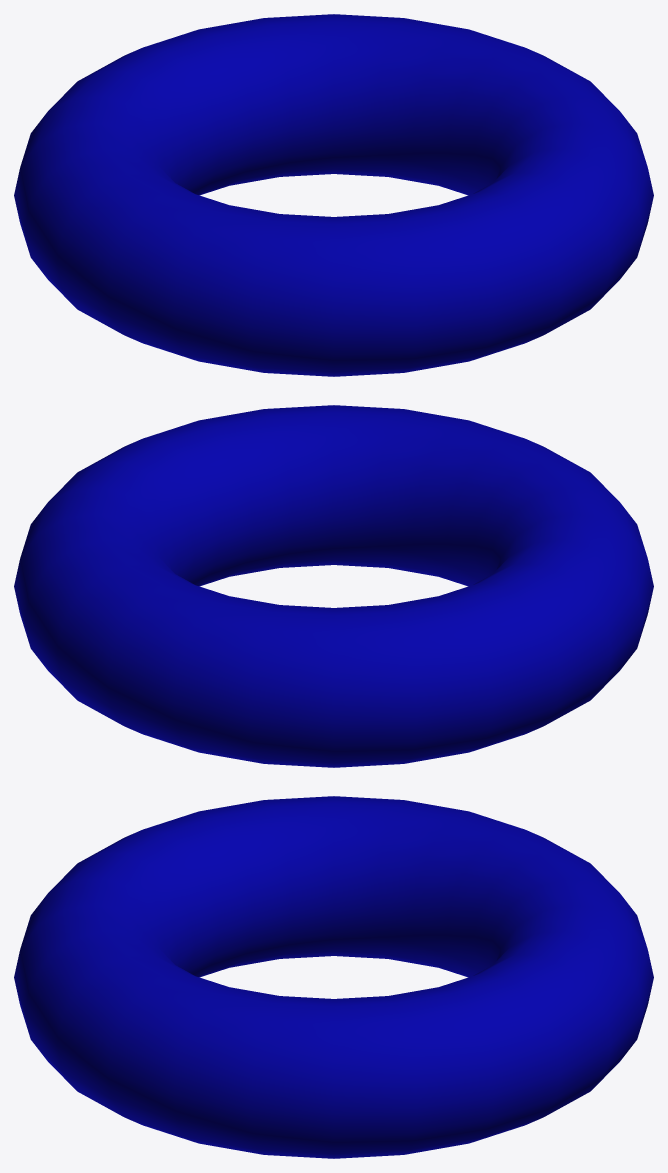
The model's file is Ring (5).obj.
3 views of the same model, one above another, from view 1: azimuth 30°, elevation 25°; view 2: azimuth 150°, elevation 25°; view 3: azimuth 270°, elevation 25° (orthographic).
Parts seen in each view (by area): view 1: Ring (5); view 2: Ring (5); view 3: Ring (5).
Boxes of the visible parts, x1=… form: Ring (5): x1=14, y1=14, x2=653, y2=376; Ring (5): x1=14, y1=405, x2=653, y2=767; Ring (5): x1=14, y1=796, x2=653, y2=1158.
Size of the model in its own units: 0.8 by 0.2 by 0.8.
